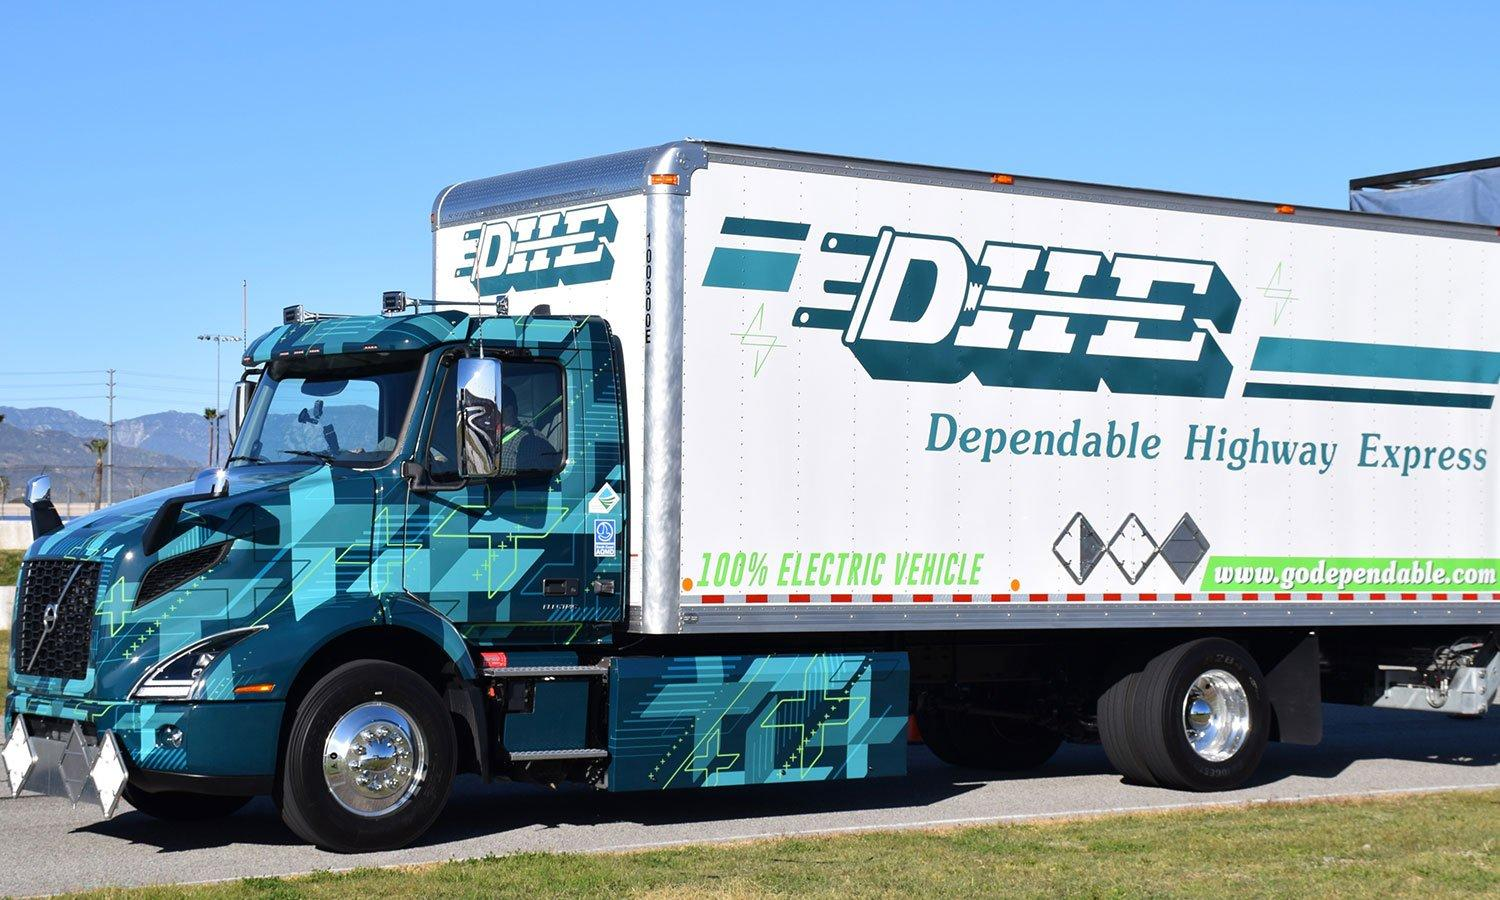truck: (4, 138, 1500, 855)
